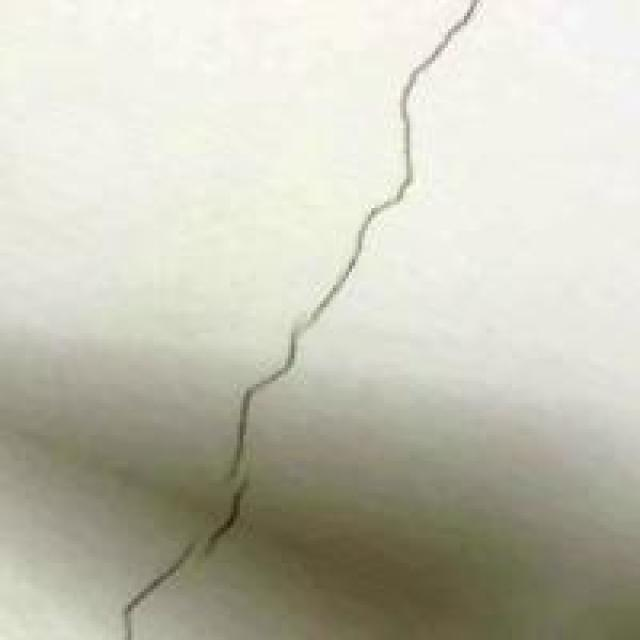crack: (90, 0, 483, 637)
